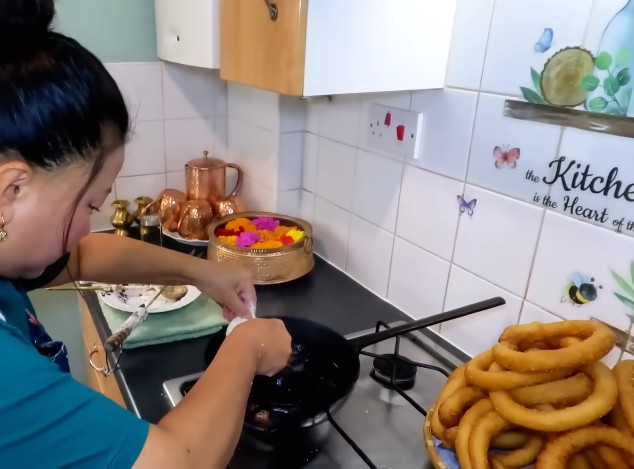sel_roti: (492, 386, 620, 431), (501, 320, 617, 369), (469, 353, 549, 388)
